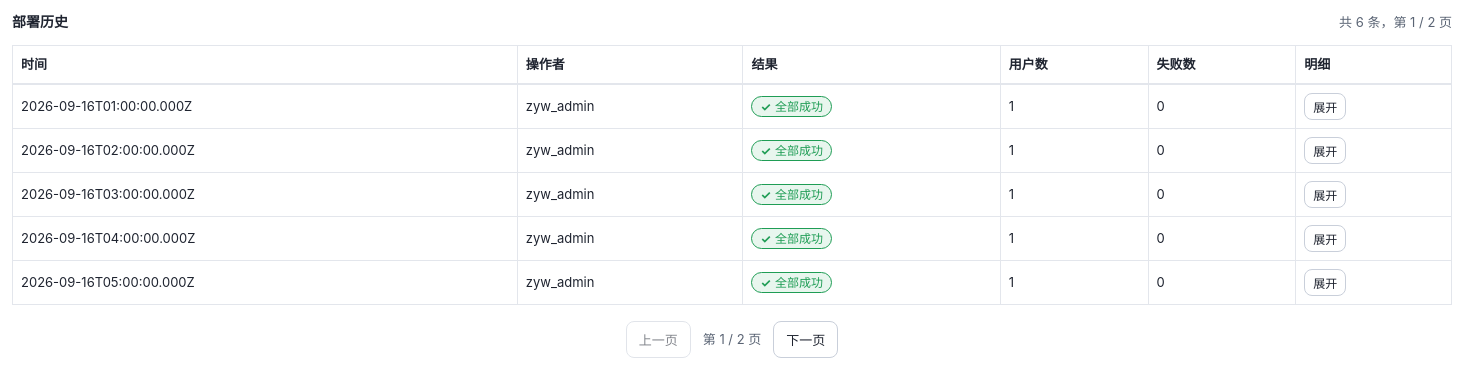
Scenario: DeployHistoryList —— 分页（每页 5 条） › 6 条记录分两页：首页 5 行，翻页后只剩 1 行
Click the button "下一页" at (806, 339), box [773, 321, 838, 358]
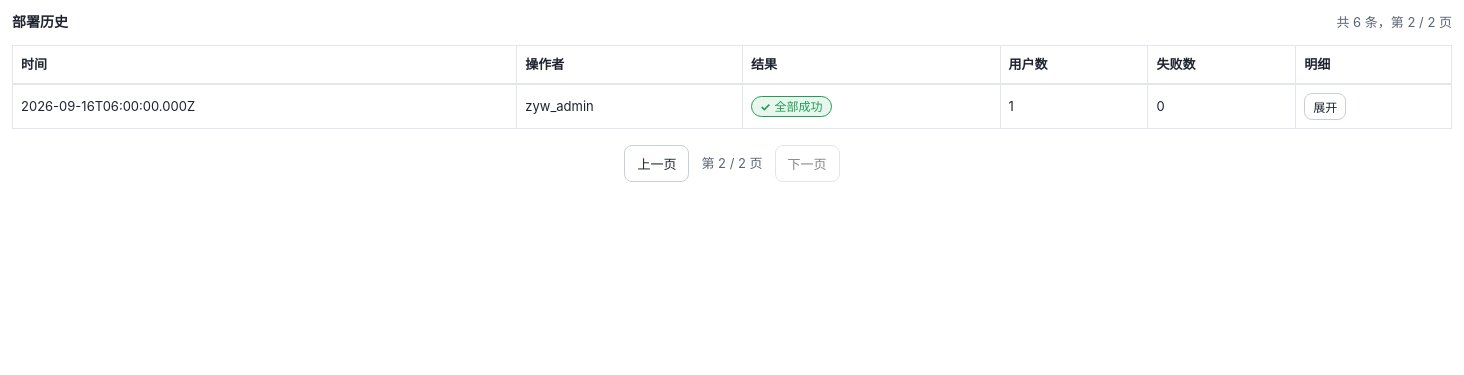
Now the text "第 2 / 2 页" is shown, box [1336, 14, 1452, 30]
